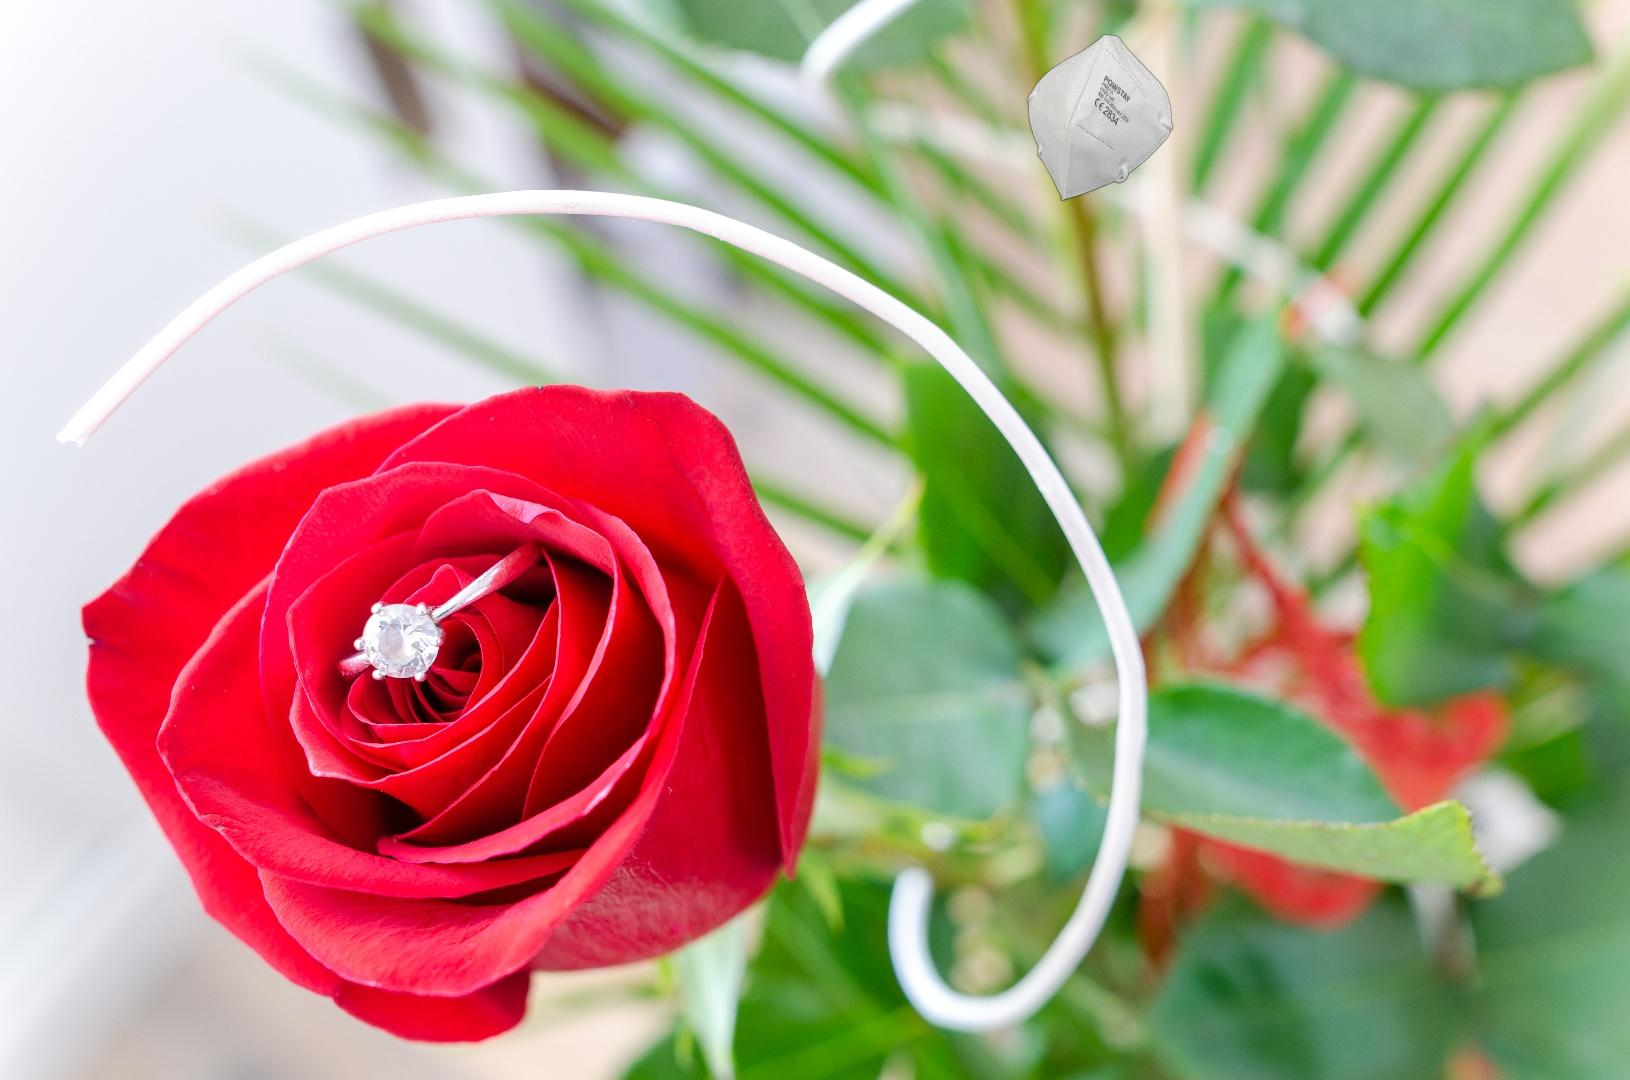trash: (1024, 33, 1176, 202)
